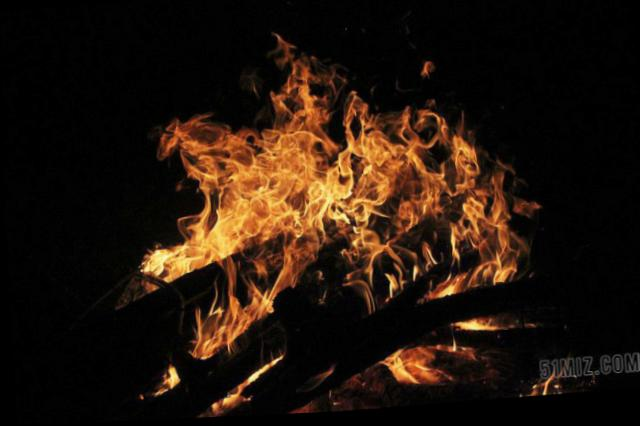fire: (186, 131, 326, 243), (322, 130, 402, 232), (264, 40, 336, 139), (456, 182, 508, 253), (399, 157, 450, 225), (395, 105, 446, 158), (446, 132, 481, 199), (383, 349, 437, 389), (145, 243, 208, 277), (470, 246, 519, 289), (341, 230, 377, 285), (272, 237, 307, 290), (341, 87, 377, 137), (189, 311, 228, 357), (219, 258, 240, 338), (241, 281, 269, 318), (384, 254, 406, 299), (428, 276, 466, 302), (451, 319, 498, 337), (206, 392, 242, 412), (159, 364, 178, 388), (446, 226, 460, 258), (419, 60, 435, 82)
